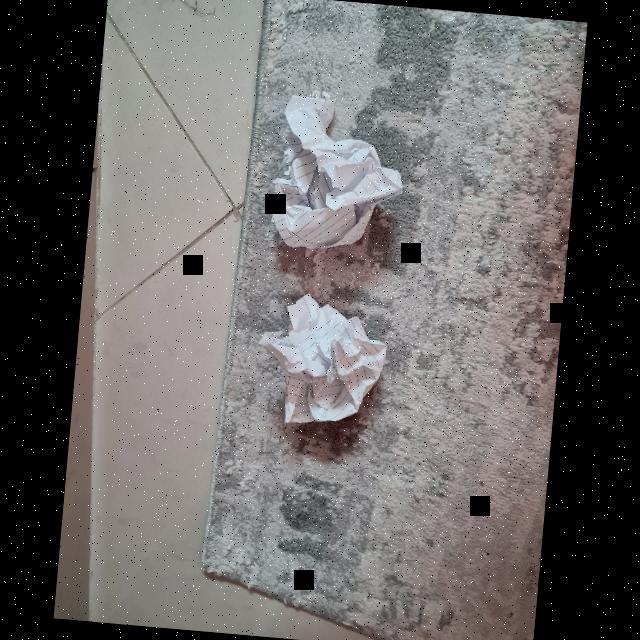scrap_paper: (266, 85, 398, 252), (264, 291, 386, 422)
